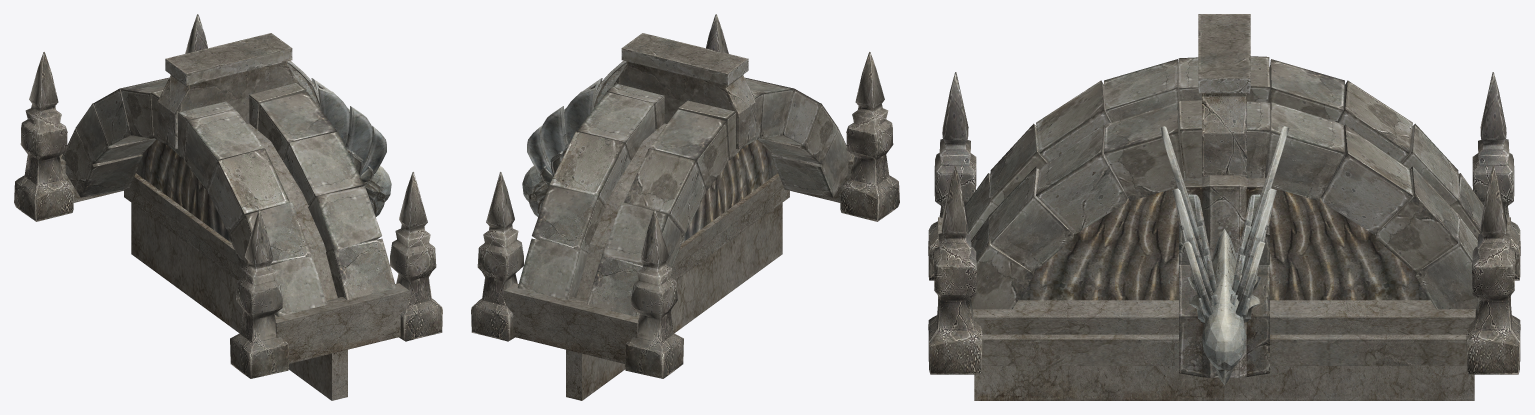
The model's file is bg_lut_lutomb_gate01c_sm_phs.FBX.
3 views of the same model, side by side, from view 1: azimuth 30°, elevation 25°; view 2: azimuth 150°, elevation 25°; view 3: azimuth 270°, elevation 25° (orthographic). The views are drawn at different scales.
Visible parts, largest first — view 1: bg_lut_lutomb_gate01c_sm_phs; view 2: bg_lut_lutomb_gate01c_sm_phs; view 3: bg_lut_lutomb_gate01c_sm_phs.
Part boxes in pixels (x1=…): bg_lut_lutomb_gate01c_sm_phs: x1=14, y1=14, x2=442, y2=400; bg_lut_lutomb_gate01c_sm_phs: x1=471, y1=14, x2=899, y2=400; bg_lut_lutomb_gate01c_sm_phs: x1=928, y1=14, x2=1520, y2=400.
Bounding box in the file's own units: 204 × 208 × 325.
